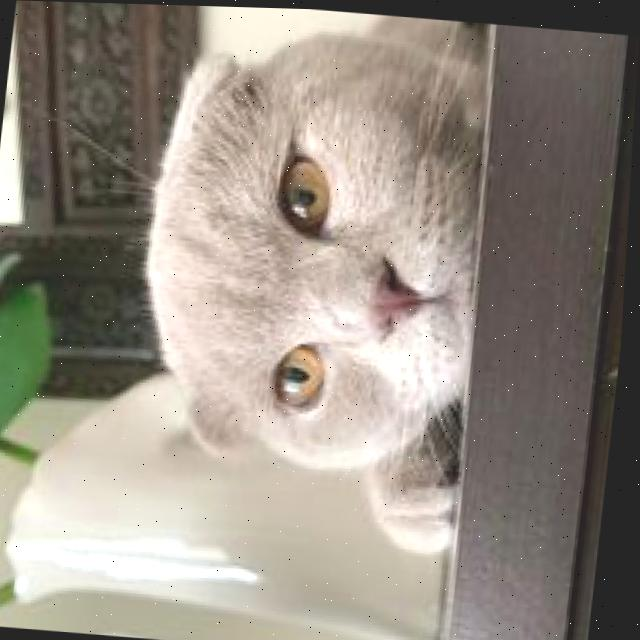Scottish Fold: (110, 3, 515, 559)
